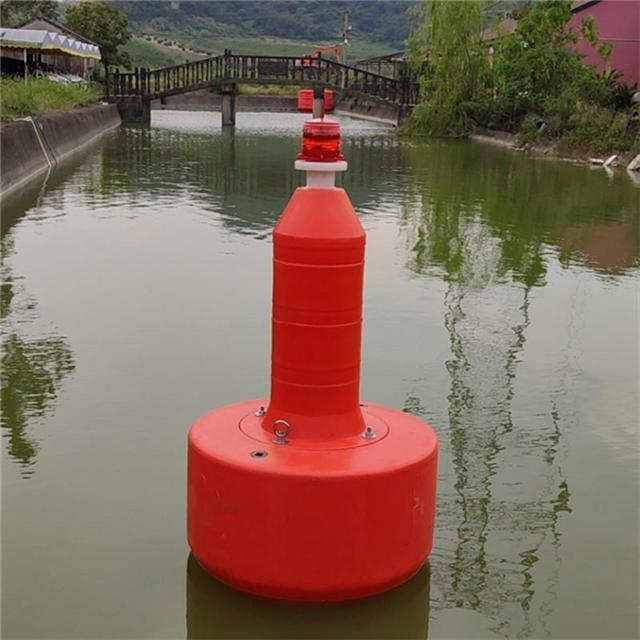buoy: (178, 113, 440, 596)
